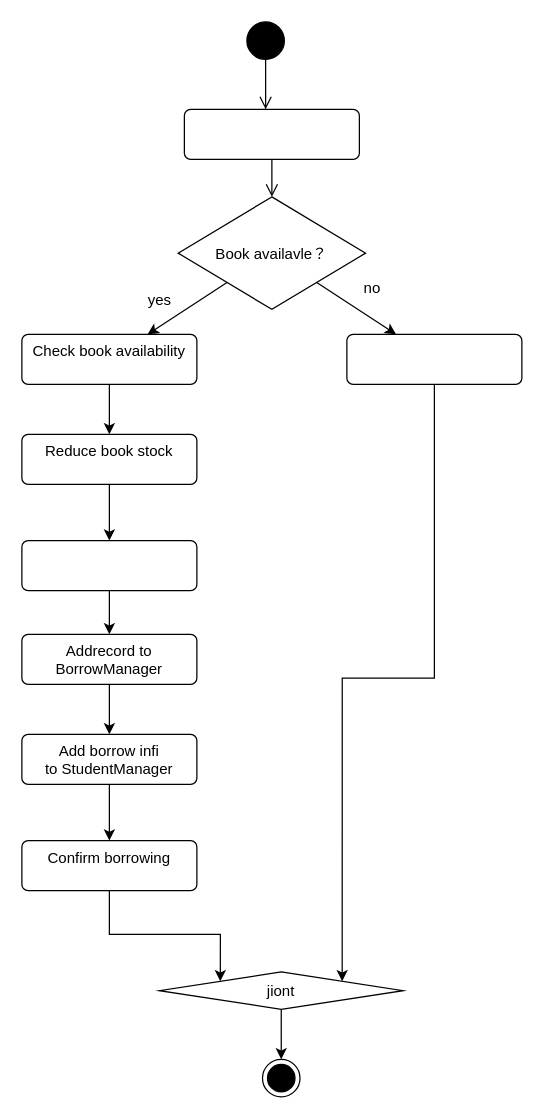
This 544x1119 diagram has some shape labels left out. Each missing label, with the centre of its shape:
"Create BorrowInfo record" goes at point (109, 565).
"Librarian receives book borrowing request" goes at point (271, 133).
"Notify book not availabe" goes at point (434, 358).
